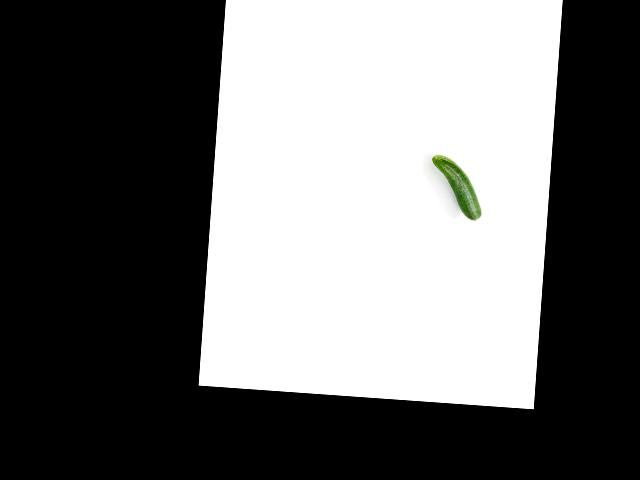cucumber: (427, 154, 484, 220)
